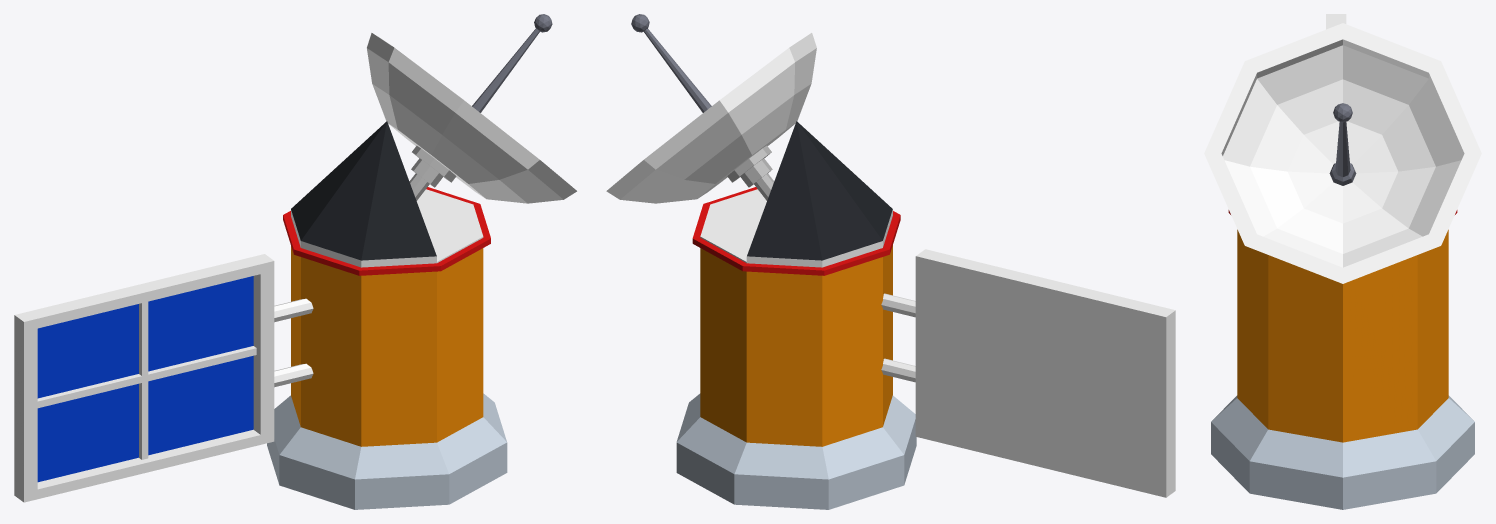
Rendered from Satellite7.glb.
3 views of the same model, side by side, from view 1: azimuth 30°, elevation 25°; view 2: azimuth 150°, elevation 25°; view 3: azimuth 270°, elevation 25° (orthographic). The views are drawn at different scales.
Parts seen in each view (by area): view 1: satellite7-main, Satellite7-Panel, Satellite7-head; view 2: satellite7-main, Satellite7-Panel, Satellite7-head; view 3: satellite7-main, Satellite7-head.
Boxes of the visible parts, left/top/right/bottom form: satellite7-main: left=267, top=121, right=507, bottom=509; Satellite7-Panel: left=14, top=254, right=313, bottom=502; Satellite7-head: left=367, top=14, right=576, bottom=203; satellite7-main: left=676, top=121, right=916, bottom=509; Satellite7-Panel: left=881, top=249, right=1175, bottom=497; Satellite7-head: left=606, top=14, right=816, bottom=203; satellite7-main: left=1211, top=210, right=1474, bottom=509; Satellite7-head: left=1204, top=23, right=1481, bottom=283.
Size of the model in its own units: 6.24 by 4.54 by 2.63.
